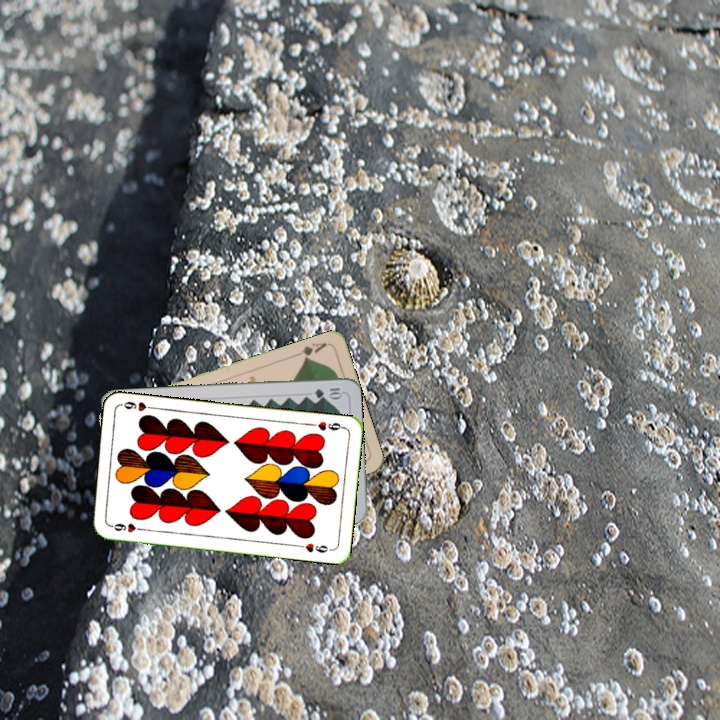G10: (311, 384, 345, 400)
GA: (291, 338, 329, 363)
H9: (306, 417, 347, 433), (106, 519, 147, 535)
